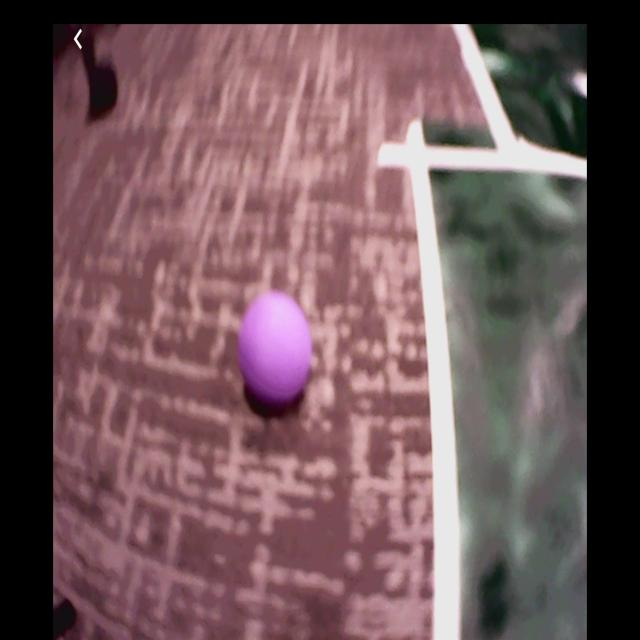ball: (237, 289, 314, 412)
